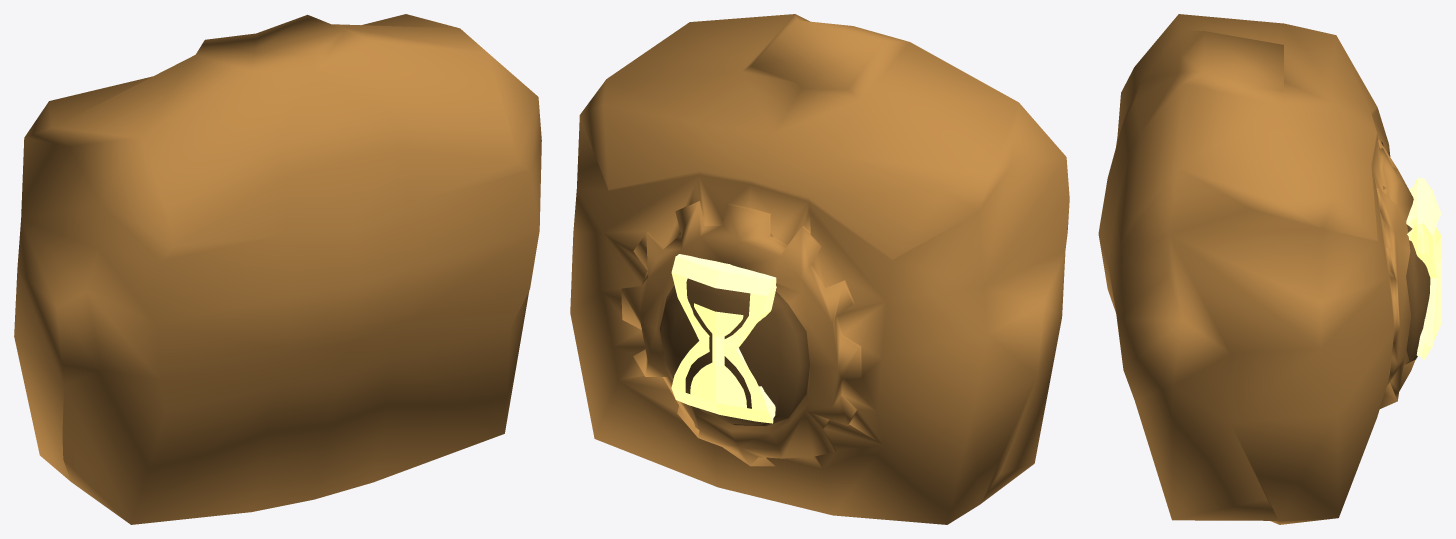
File: Chest (2).fbx
3 views of the same model, side by side, from view 1: azimuth 30°, elevation 25°; view 2: azimuth 150°, elevation 25°; view 3: azimuth 270°, elevation 25° (orthographic). The views are drawn at different scales.
Parts seen in each view (by area): view 1: Time; view 2: Time; view 3: Time.
Part boxes in pixels (bbox=[...]): Time: bbox=[14, 14, 541, 524]; Time: bbox=[570, 14, 1069, 524]; Time: bbox=[1098, 14, 1441, 524].
Size of the model in its own units: 47.21 by 44.19 by 33.74.
